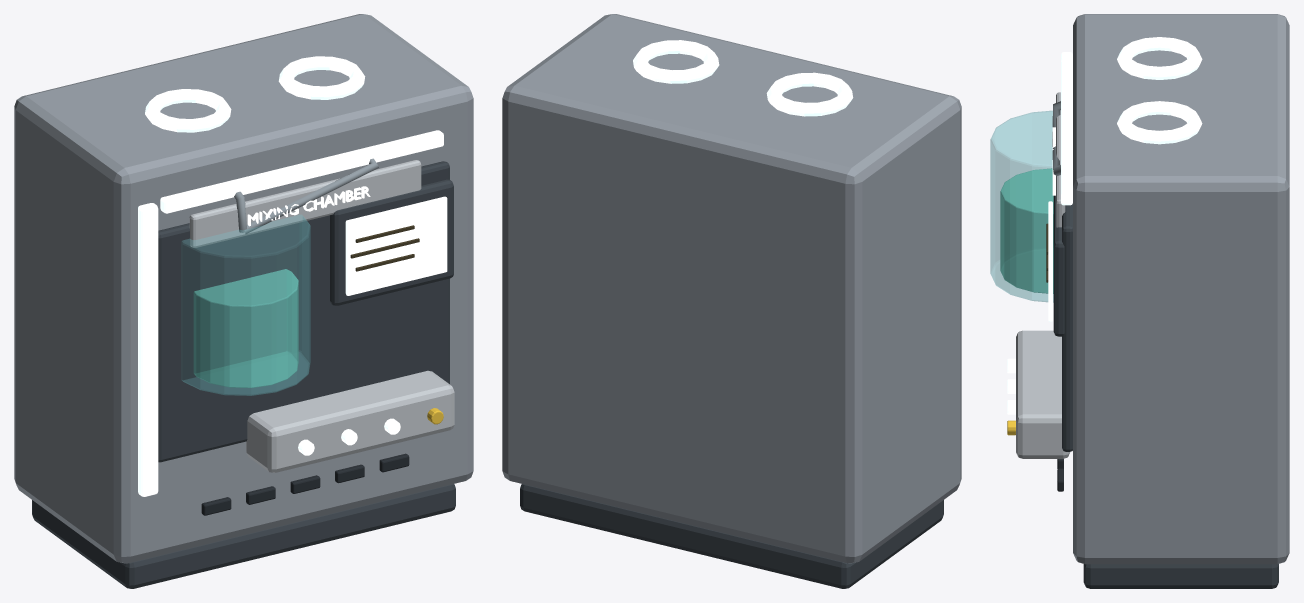
Rendered from machine_mixing_chamber.glb.
The picture shows the model from 3 angles, left to right: view 1: azimuth 30°, elevation 25°; view 2: azimuth 150°, elevation 25°; view 3: azimuth 270°, elevation 25°; orthographic projection.
Visible parts, largest first — view 1: MCH_MixingChamber__Main_Casing, MCH_MixingChamber__Front_Service_Panel, MCH_MixingChamber__Buffer_Vessel_Glass, MCH_MixingChamber__Packaging_Drawer, MCH_MixingChamber__Buffer_Vessel_Liquid, MCH_MixingChamber__Plinth, MCH_MixingChamber__Buffer_Screen_Glow, MCH_MixingChamber__Title_Plate, MCH_MixingChamber__Accent_Rail_Left, MCH_MixingChamber__Accent_Rail_Top, MCH_MixingChamber__Buffer_Screen_Bezel, MCH_MixingChamber__Dock_Ring_B (+3 smaller); view 2: MCH_MixingChamber__Main_Casing, MCH_MixingChamber__Plinth, MCH_MixingChamber__Dock_Ring_A, MCH_MixingChamber__Dock_Ring_B; view 3: MCH_MixingChamber__Main_Casing, MCH_MixingChamber__Buffer_Vessel_Glass, MCH_MixingChamber__Packaging_Drawer, MCH_MixingChamber__Buffer_Vessel_Liquid, MCH_MixingChamber__Plinth, MCH_MixingChamber__Front_Service_Panel, MCH_MixingChamber__Dock_Ring_B, MCH_MixingChamber__Dock_Ring_A, MCH_MixingChamber__Accent_Rail_Top, MCH_MixingChamber__Buffer_Screen_Bezel, MCH_MixingChamber__Buffer_Screen_Glow, MCH_MixingChamber__Title_Plate.
Part boxes in pixels (<box>): MCH_MixingChamber__Main_Casing: <box>14,14,473,563</box>; MCH_MixingChamber__Front_Service_Panel: <box>158,161,449,462</box>; MCH_MixingChamber__Buffer_Vessel_Glass: <box>181,215,310,395</box>; MCH_MixingChamber__Packaging_Drawer: <box>246,370,454,472</box>; MCH_MixingChamber__Buffer_Vessel_Liquid: <box>193,269,298,387</box>; MCH_MixingChamber__Plinth: <box>32,484,455,588</box>; MCH_MixingChamber__Buffer_Screen_Glow: <box>345,196,447,295</box>; MCH_MixingChamber__Title_Plate: <box>189,160,421,247</box>; MCH_MixingChamber__Accent_Rail_Left: <box>138,203,158,496</box>; MCH_MixingChamber__Accent_Rail_Top: <box>160,130,443,213</box>; MCH_MixingChamber__Buffer_Screen_Bezel: <box>330,179,453,305</box>; MCH_MixingChamber__Dock_Ring_B: <box>278,56,365,99</box>; MCH_MixingChamber__Main_Casing: <box>502,14,961,563</box>; MCH_MixingChamber__Plinth: <box>520,484,943,588</box>; MCH_MixingChamber__Dock_Ring_A: <box>766,72,853,116</box>; MCH_MixingChamber__Dock_Ring_B: <box>633,40,719,83</box>; MCH_MixingChamber__Main_Casing: <box>1073,14,1289,564</box>; MCH_MixingChamber__Buffer_Vessel_Glass: <box>990,110,1053,302</box>; MCH_MixingChamber__Packaging_Drawer: <box>1016,330,1070,458</box>; MCH_MixingChamber__Buffer_Vessel_Liquid: <box>1000,168,1053,293</box>; MCH_MixingChamber__Plinth: <box>1083,564,1278,588</box>; MCH_MixingChamber__Front_Service_Panel: <box>1062,203,1072,451</box>; MCH_MixingChamber__Dock_Ring_B: <box>1117,101,1202,144</box>; MCH_MixingChamber__Dock_Ring_A: <box>1117,37,1202,79</box>; MCH_MixingChamber__Accent_Rail_Top: <box>1061,60,1072,205</box>; MCH_MixingChamber__Buffer_Screen_Bezel: <box>1053,195,1064,336</box>; MCH_MixingChamber__Buffer_Screen_Glow: <box>1048,201,1052,321</box>; MCH_MixingChamber__Title_Plate: <box>1056,92,1065,227</box>.
Bounding box in the file's own units: 1.5 × 1.74 × 1.11.
